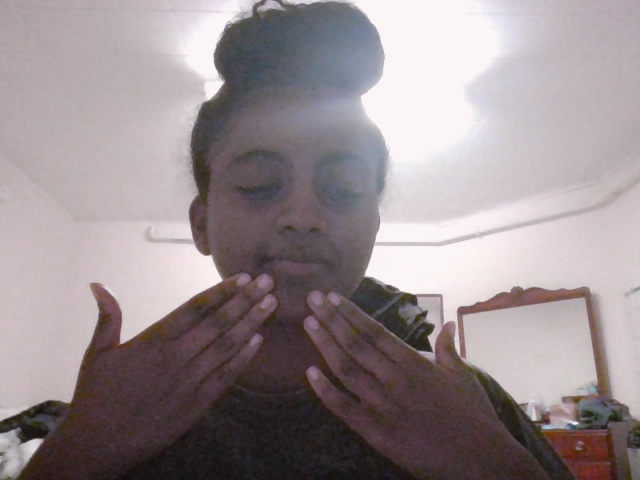Thanks: (48, 271, 541, 480)
